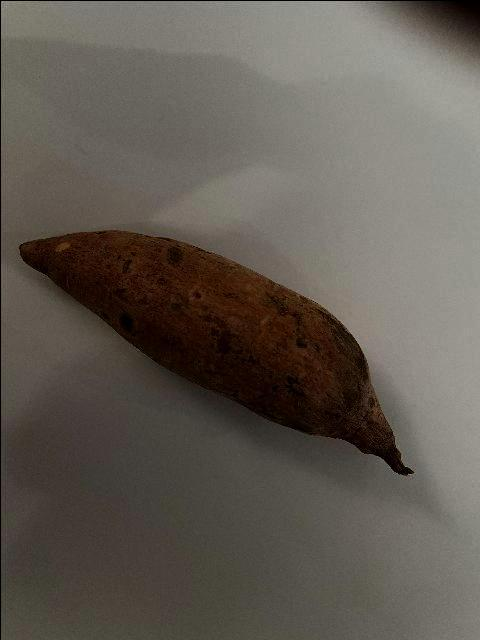sweetpotato: (17, 227, 413, 478)
